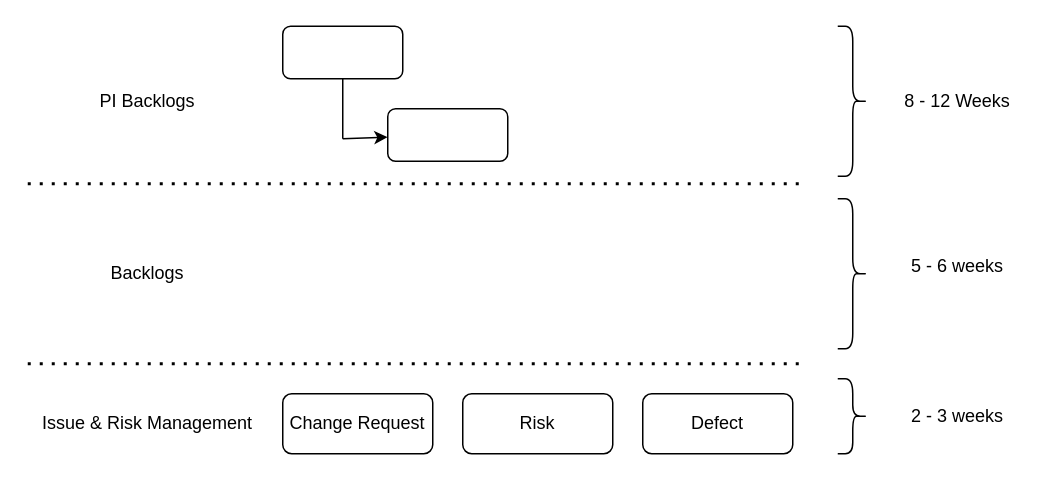
The diagram is 1043 pixels wide and 480 high, and some of its shapes have lost their labels. The shapes that lost their labels are listed below. From the top down, each one's centre as x and y in pixels, then its label:
point (342, 52): Epic
point (447, 134): Feature
